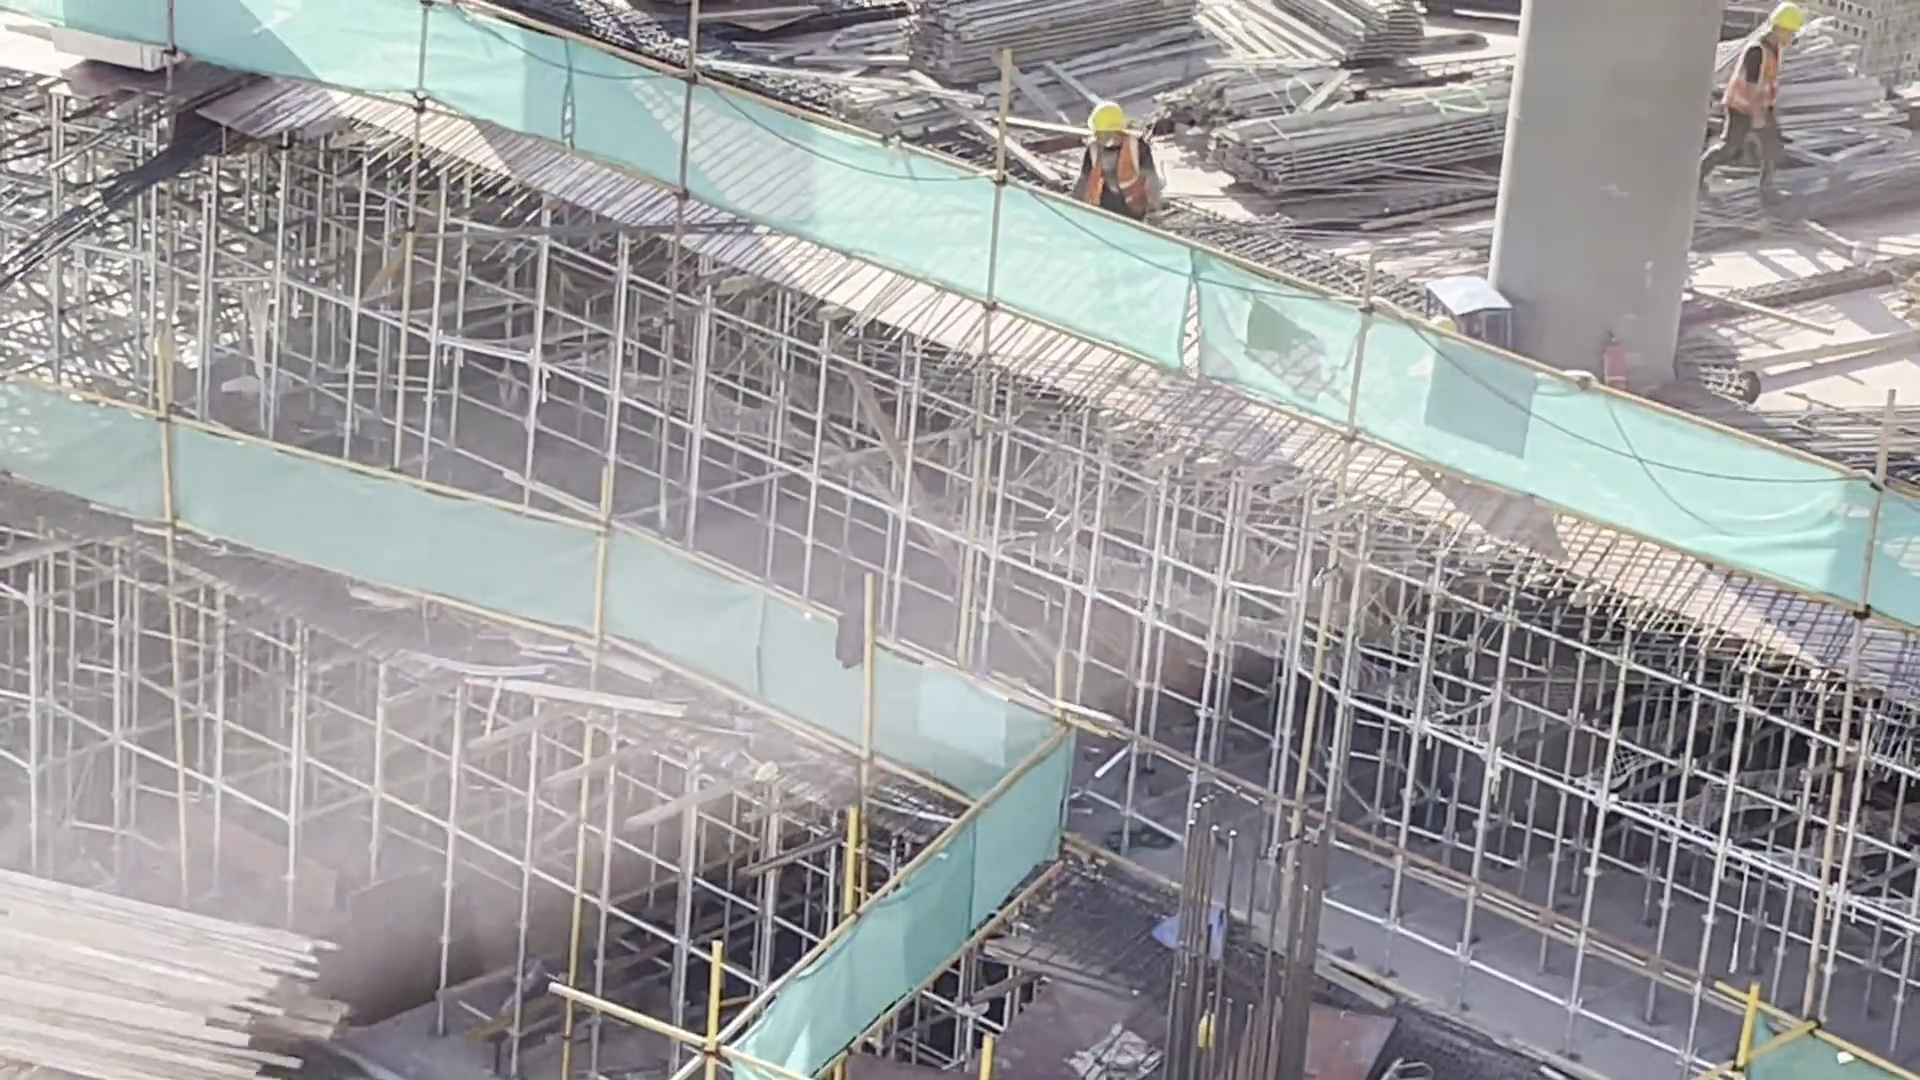helmet: (1084, 96, 1119, 136), (1768, 1, 1799, 47)
person: (1084, 110, 1186, 250), (1727, 1, 1786, 173)
vest: (1736, 29, 1779, 134), (1089, 151, 1149, 207)
